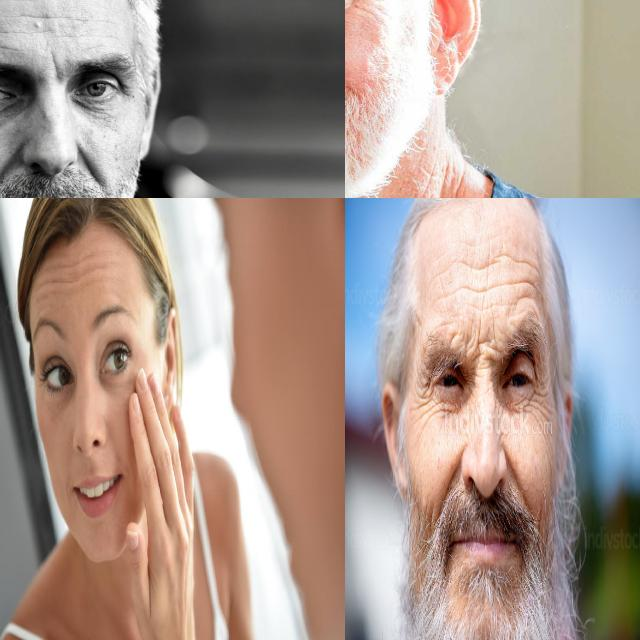crows_feet: (417, 374, 432, 419), (534, 372, 548, 411), (351, 0, 381, 13)
forehead: (21, 7, 81, 29), (78, 251, 106, 290), (461, 282, 495, 312), (458, 252, 498, 276), (43, 262, 72, 292), (508, 276, 535, 302), (507, 249, 535, 271), (431, 259, 452, 282), (0, 30, 17, 57), (435, 290, 454, 303)
frown_line: (474, 330, 496, 368)
gummy_smile: (74, 142, 108, 182), (0, 135, 23, 179), (504, 451, 522, 494), (444, 451, 461, 492)
sad_smile: (64, 480, 73, 504), (124, 462, 132, 488)
